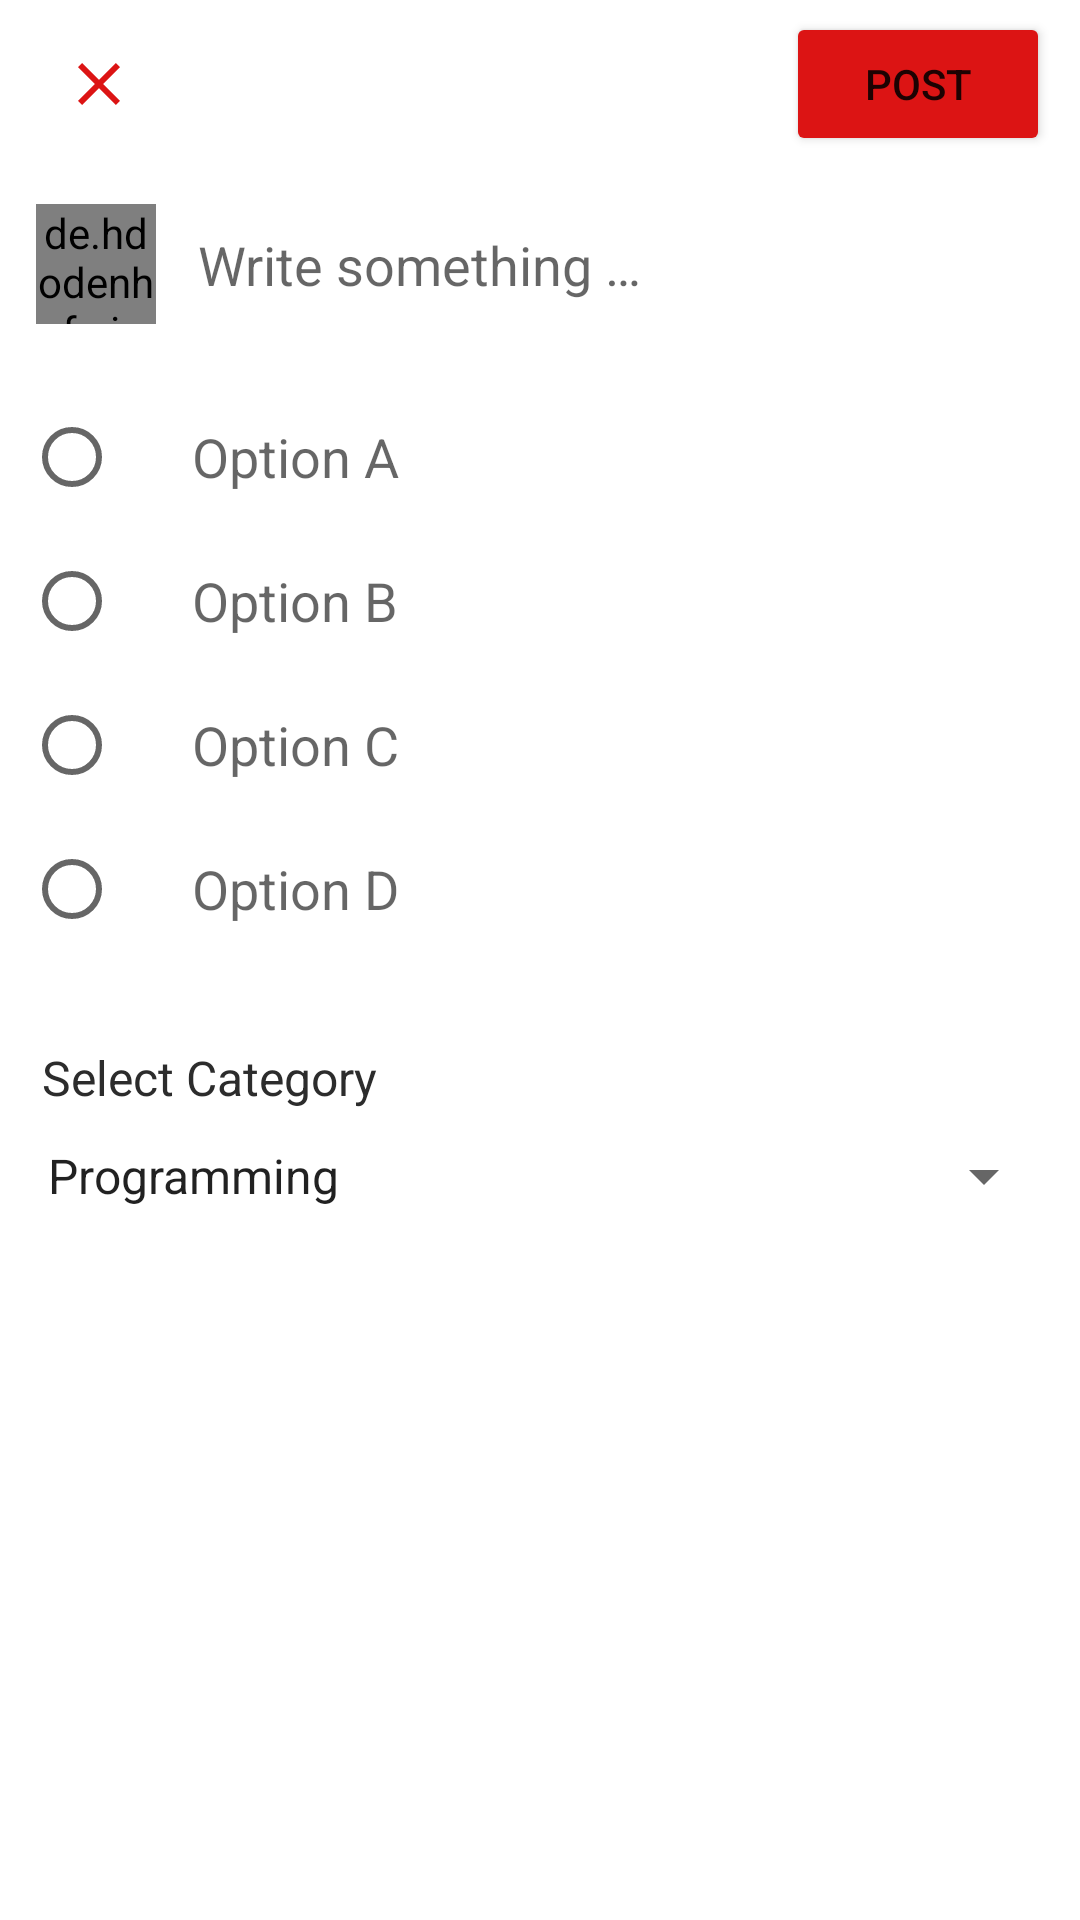

Icons on this 1080px×1920px Android screen, each with its box as box(x1, y1, x2, y2):
Toolbar navigation icon: box(78, 63, 120, 105)
